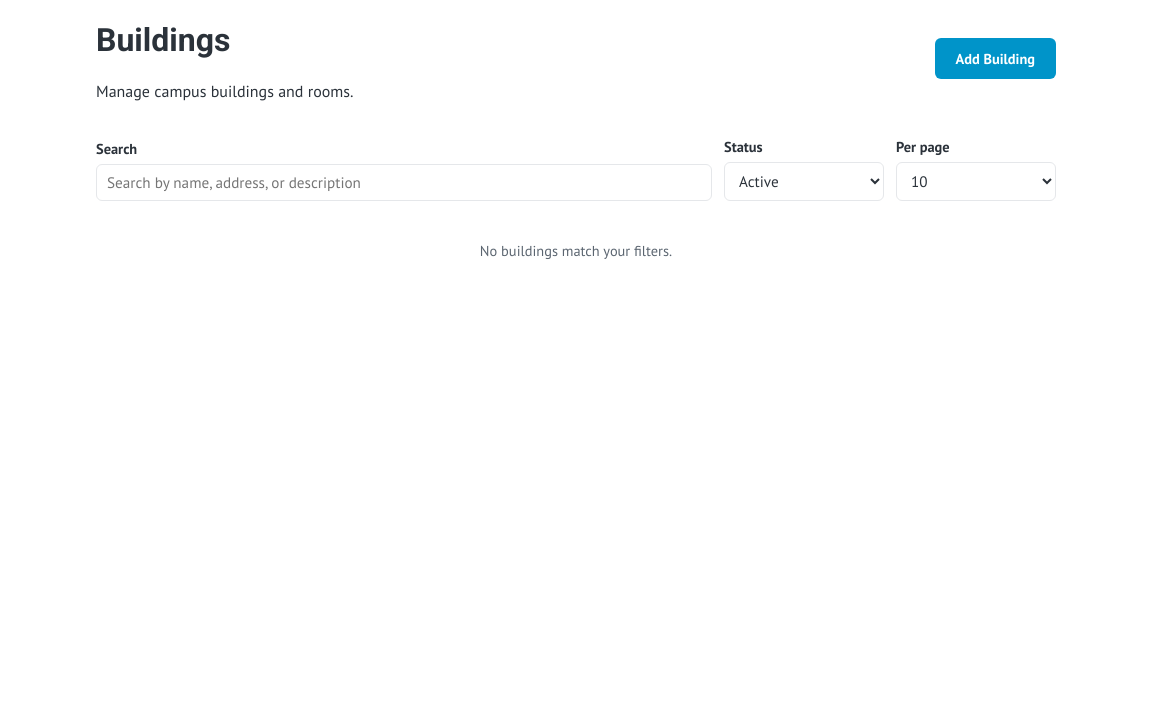
Test case: creates a new building and refreshes the list
Expected: the text "No buildings match your filters." is shown, [480,241,672,260]
Click the button "Add Building". click: (995, 58)
box: [935,38,1056,79]
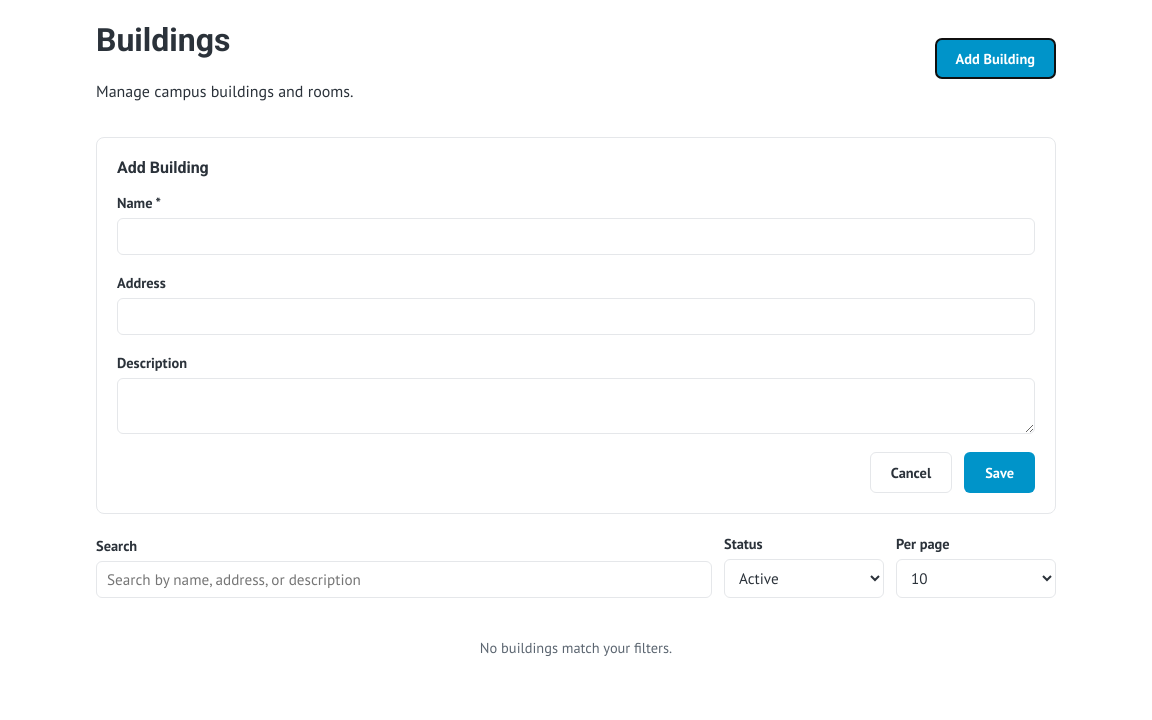
Type "New Hall" into the field labelled "Name *". click: (576, 236)
box: [117,218,1035,255]
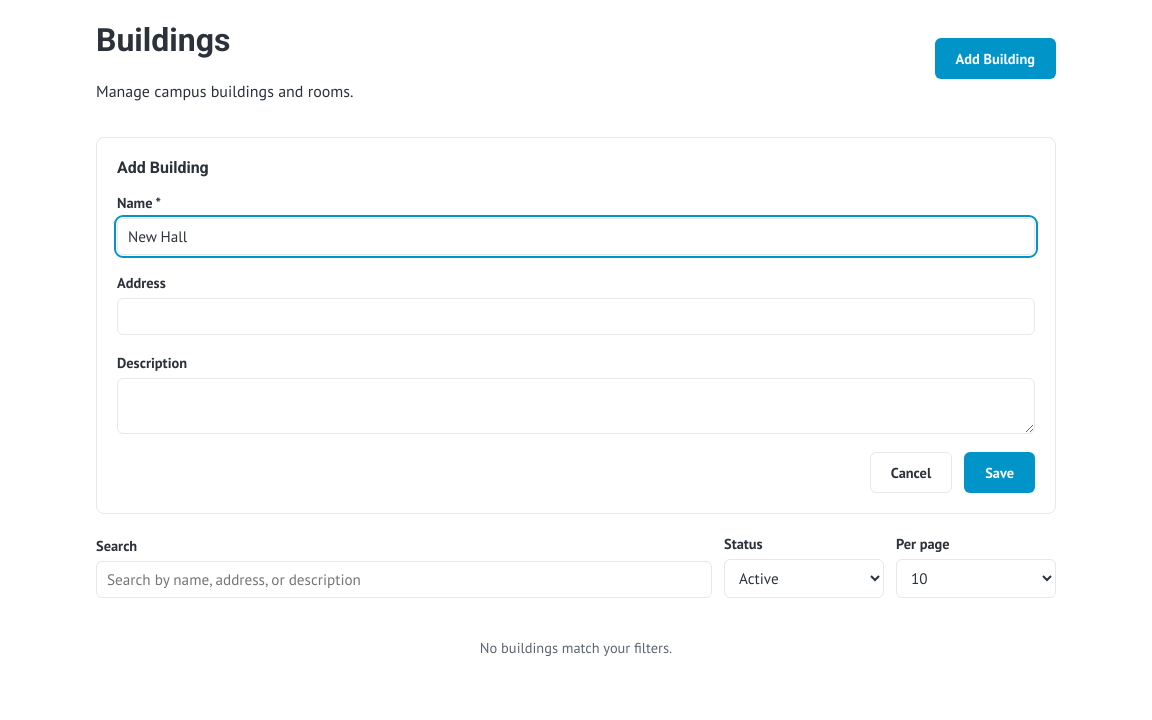
Click the button "Save". click: (1000, 472)
box: [964,452,1035,493]
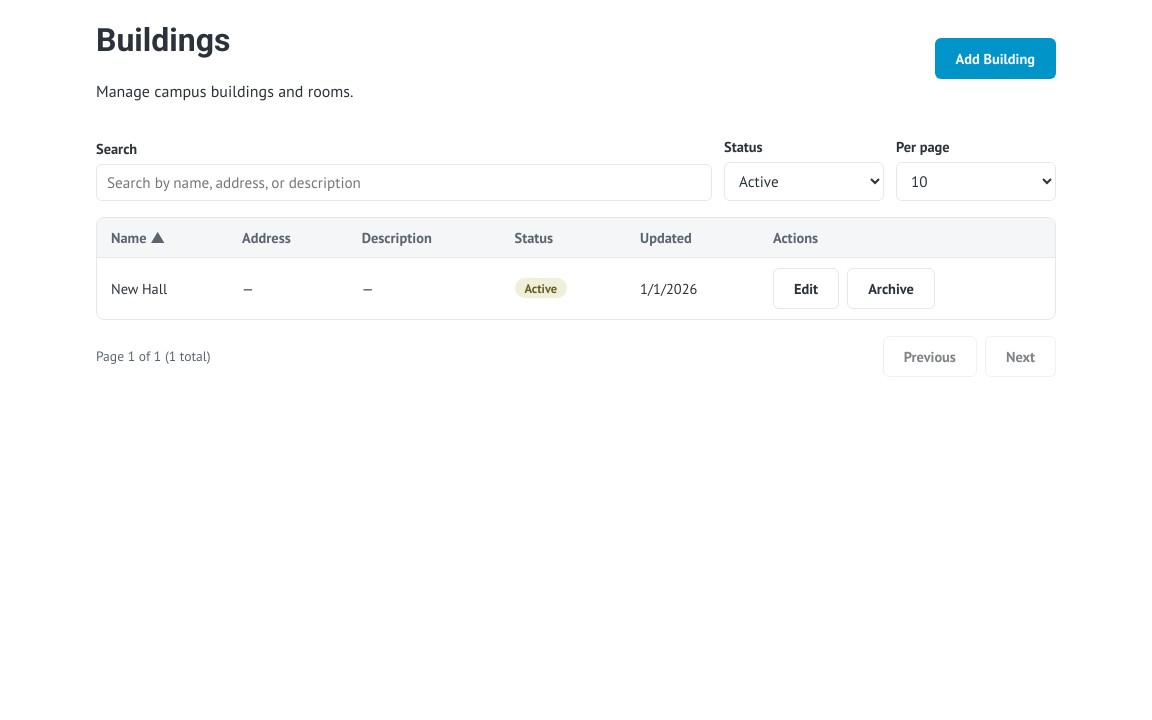
Now the text "New Hall" is shown, box [97,257,228,319]
